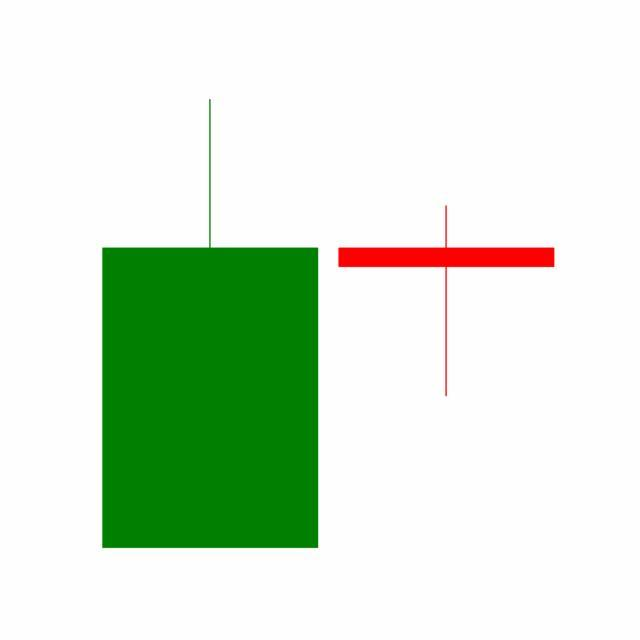Spinning Top: (328, 204, 566, 400)
